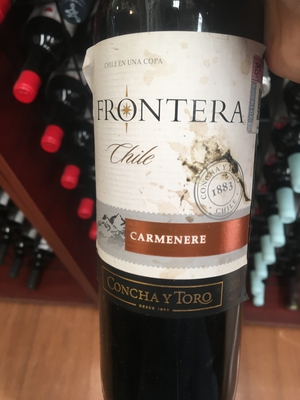frontera carmenere: (84, 3, 267, 397)
